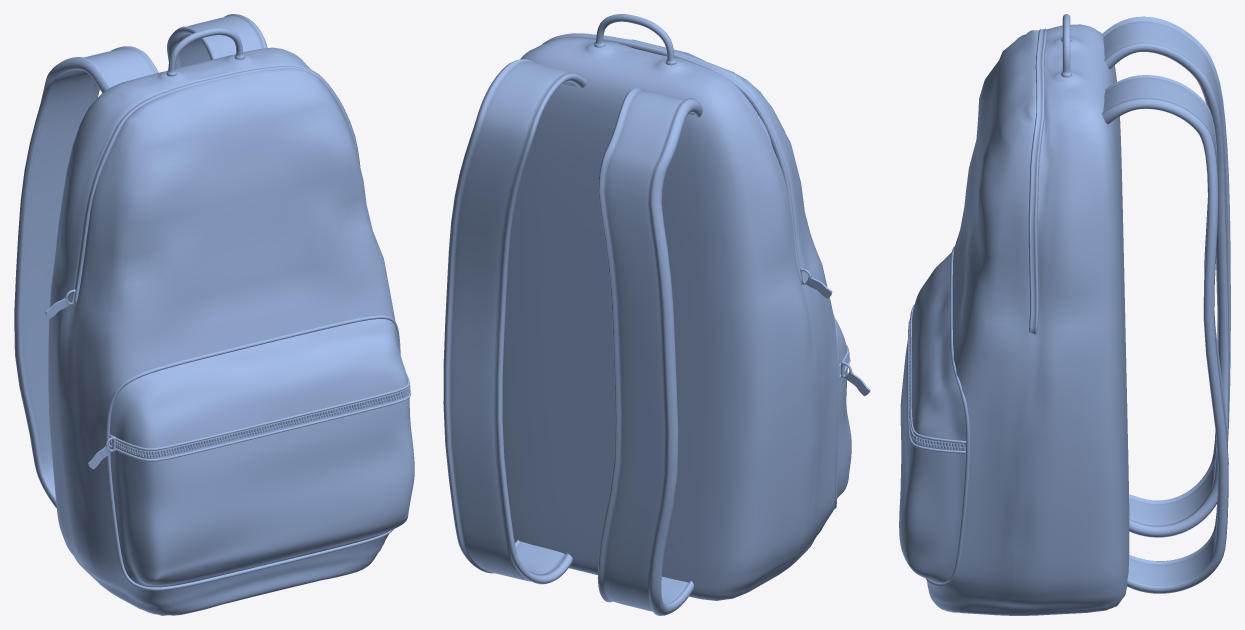
Rendered from backpack_blue.glb.
3 views of the same model, side by side, from view 1: azimuth 30°, elevation 25°; view 2: azimuth 150°, elevation 25°; view 3: azimuth 270°, elevation 25° (orthographic). The views are drawn at different scales.
Visible parts, largest first — view 1: Cube, Cube.001, Cube.002, Cube.003, Cube.009, Cube.007, Cube.005, Cube.004; view 2: Cube, Cube.002, Cube.009, Cube.001, Cube.004; view 3: Cube, Cube.002, Cube.001, Cube.009, Cube.003, Cube.005, Cube.004, Cube.007.
Part boxes in pixels (<box>): Cube: <box>48,47,395,615</box>; Cube.001: <box>110,319,414,587</box>; Cube.002: <box>14,14,267,508</box>; Cube.003: <box>106,315,400,590</box>; Cube.009: <box>71,64,360,305</box>; Cube.007: <box>110,384,410,457</box>; Cube.005: <box>109,374,411,461</box>; Cube.004: <box>166,27,244,76</box>; Cube: <box>502,37,837,600</box>; Cube.002: <box>443,59,702,615</box>; Cube.009: <box>542,33,802,284</box>; Cube.001: <box>835,318,851,498</box>; Cube.004: <box>594,14,676,65</box>; Cube: <box>927,24,1129,615</box>; Cube.002: <box>1101,16,1230,593</box>; Cube.001: <box>899,252,966,582</box>; Cube.009: <box>1028,28,1046,334</box>; Cube.003: <box>925,246,970,586</box>; Cube.005: <box>907,304,966,453</box>; Cube.004: <box>1061,14,1071,77</box>; Cube.007: <box>909,312,965,450</box>.
Size of the model in its own units: 1.13 by 1.71 by 0.9532.
